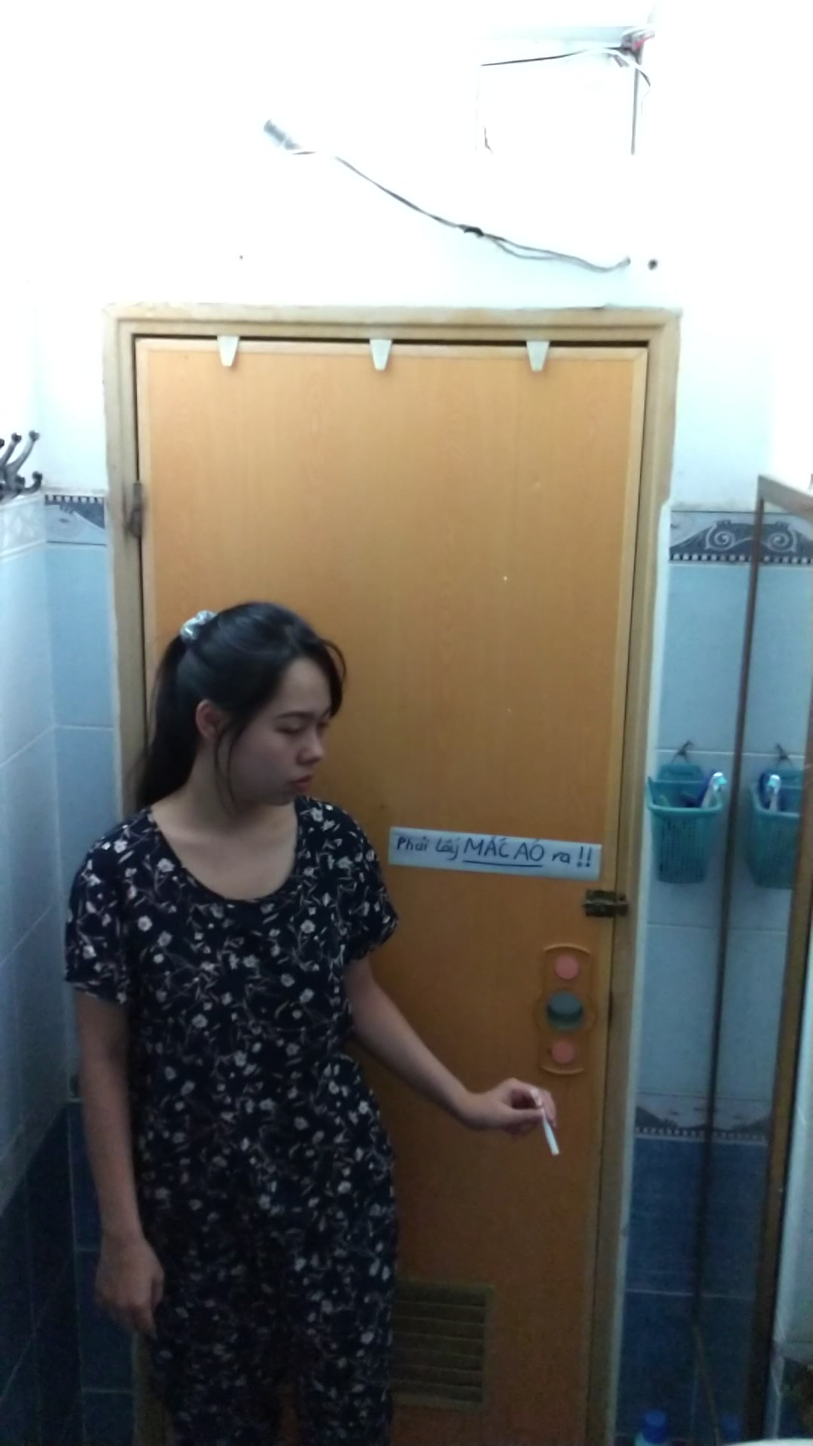cigarette: (537, 1120, 564, 1161)
person: (29, 587, 552, 1446)
